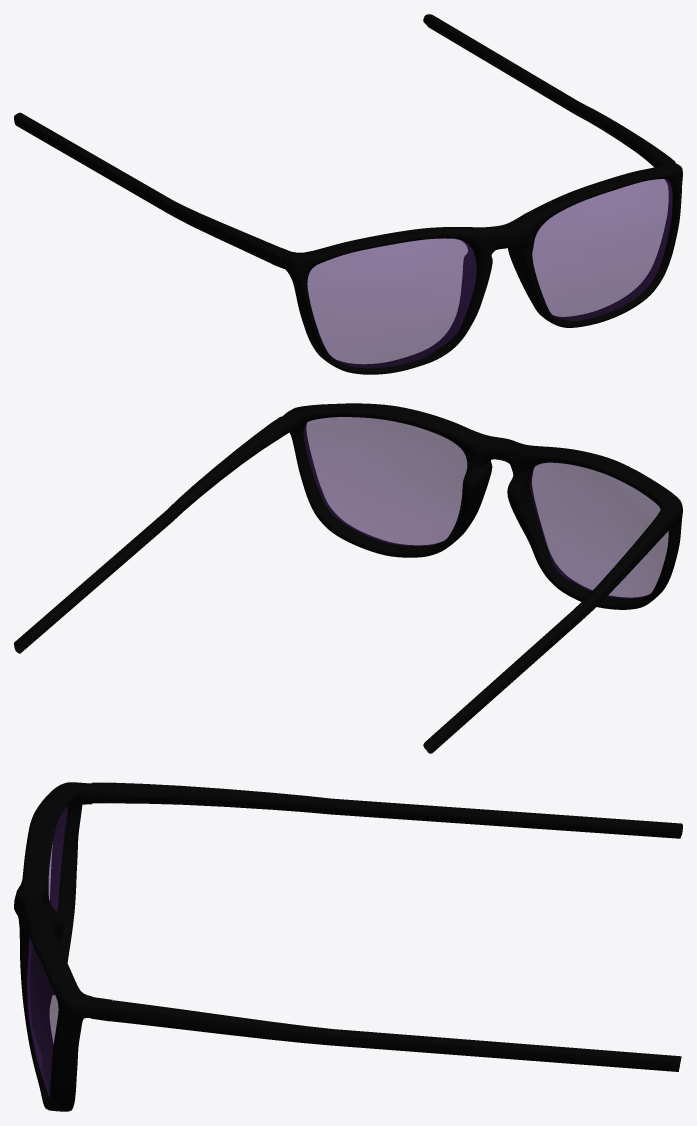
Rendered from glasses-10.glb.
The picture shows the model from 3 angles, top to bottom: view 1: azimuth 30°, elevation 25°; view 2: azimuth 150°, elevation 25°; view 3: azimuth 270°, elevation 25°; orthographic projection. The views are drawn at different scales.
Visible parts, largest first — view 1: glasses, frame, bow_right, bow_left; view 2: glasses, frame, bow_right, bow_left; view 3: frame, bow_left, bow_right, glasses.
Boxes of the visible parts, <box> form: glasses: <box>307,179,672,368</box>; frame: <box>281,160,682,374</box>; bow_right: <box>14,112,290,268</box>; bow_left: <box>423,14,675,167</box>; glasses: <box>303,417,668,598</box>; frame: <box>282,403,682,609</box>; bow_right: <box>423,509,675,753</box>; bow_left: <box>14,416,293,653</box>; frame: <box>14,782,121,1111</box>; bow_left: <box>91,997,681,1071</box>; bow_right: <box>92,782,682,838</box>; glasses: <box>27,806,67,1096</box>.
Size of the model in its own units: 16.34 by 5.18 by 19.44.
